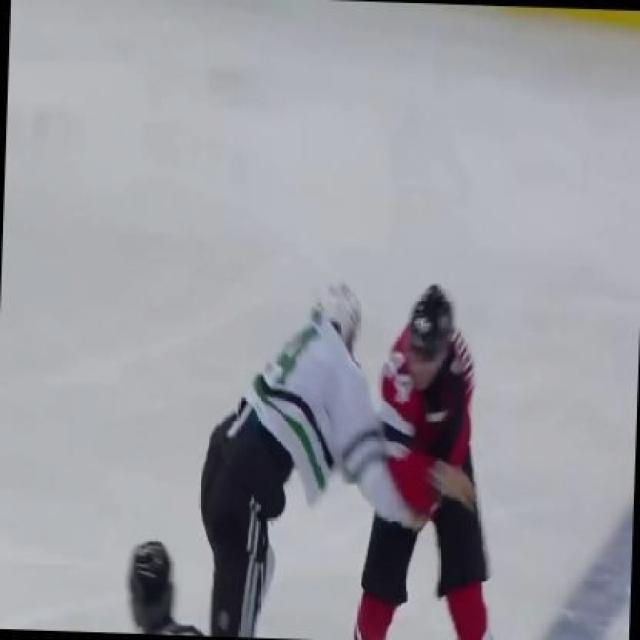fight: (188, 263, 512, 639)
